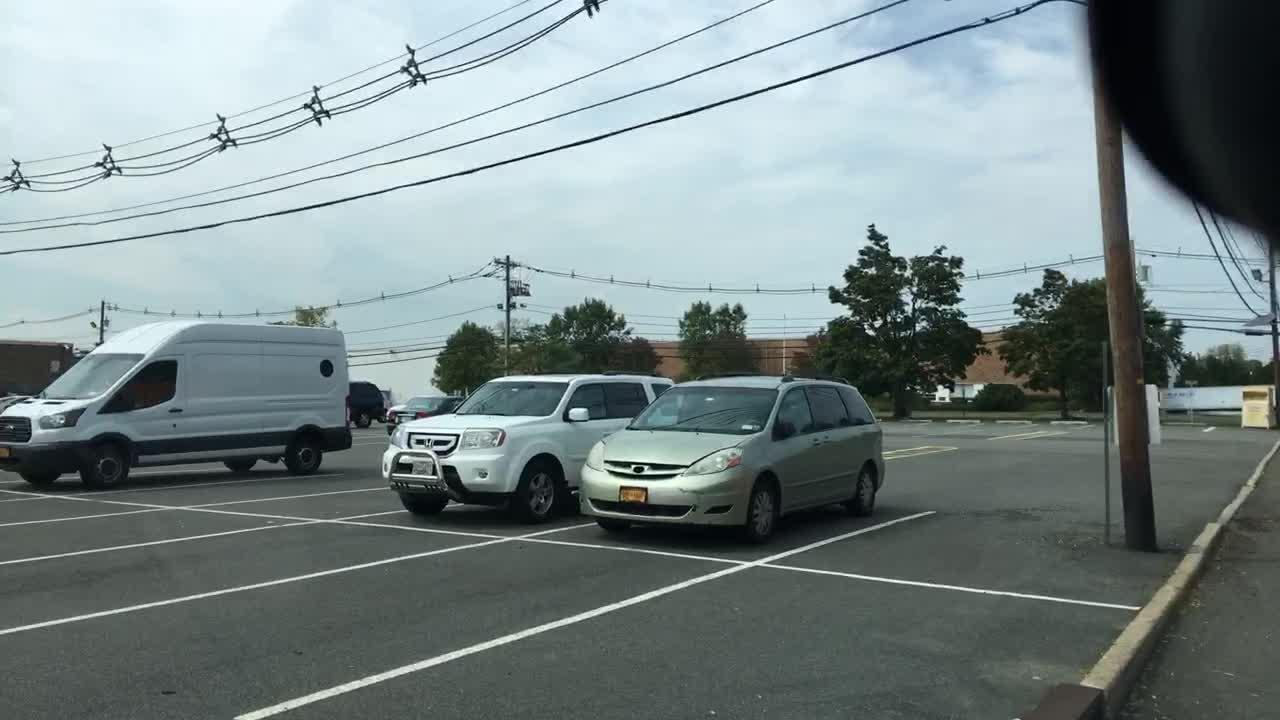Honda: (417, 434, 438, 455)
